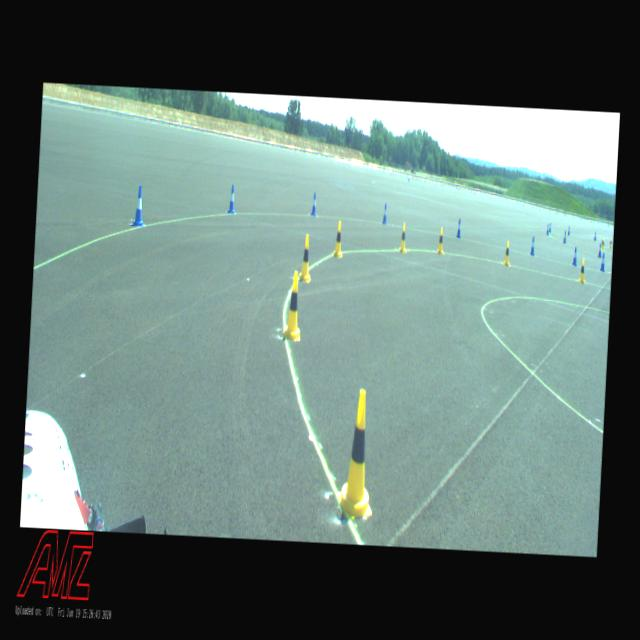blue_cone: (130, 185, 146, 227), (226, 184, 236, 213), (310, 192, 318, 216), (382, 203, 388, 225), (572, 246, 578, 266), (456, 218, 462, 238), (530, 237, 536, 256), (600, 253, 606, 271), (598, 244, 602, 258), (562, 230, 566, 243), (546, 224, 550, 235), (548, 222, 552, 232), (594, 232, 597, 242), (568, 226, 570, 236)
yellow_cone: (336, 389, 378, 519), (283, 270, 304, 340), (298, 234, 313, 282), (332, 222, 344, 258), (398, 222, 408, 254), (436, 227, 446, 255), (578, 258, 587, 284), (503, 240, 511, 266), (602, 238, 605, 250), (602, 237, 604, 249), (610, 238, 612, 248)
